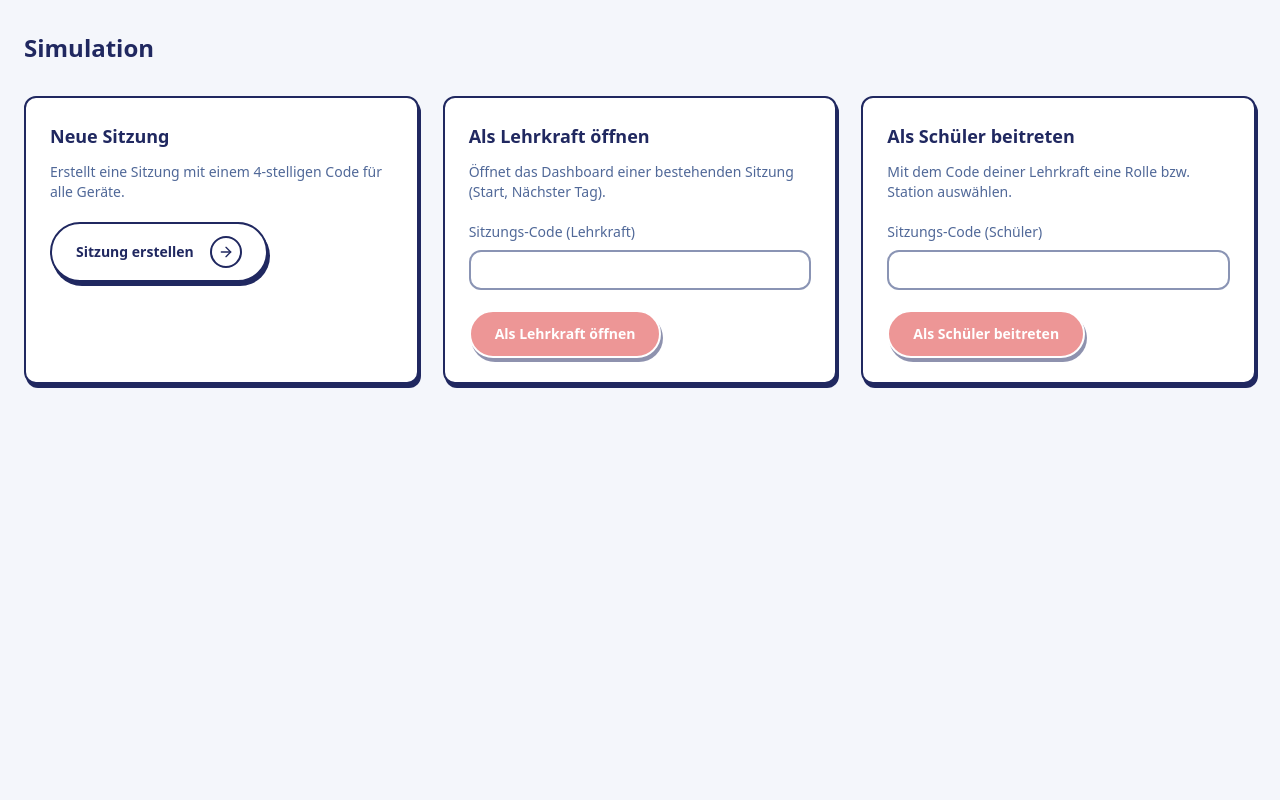
it: SimulationPage › opens the dashboard when a teacher enters a code
The image size is (1280, 800).
Type "4827" into the field labelled "Sitzungs-Code (Lehrkraft)".
click(640, 270); type("4827")  # box [469,250,811,290]
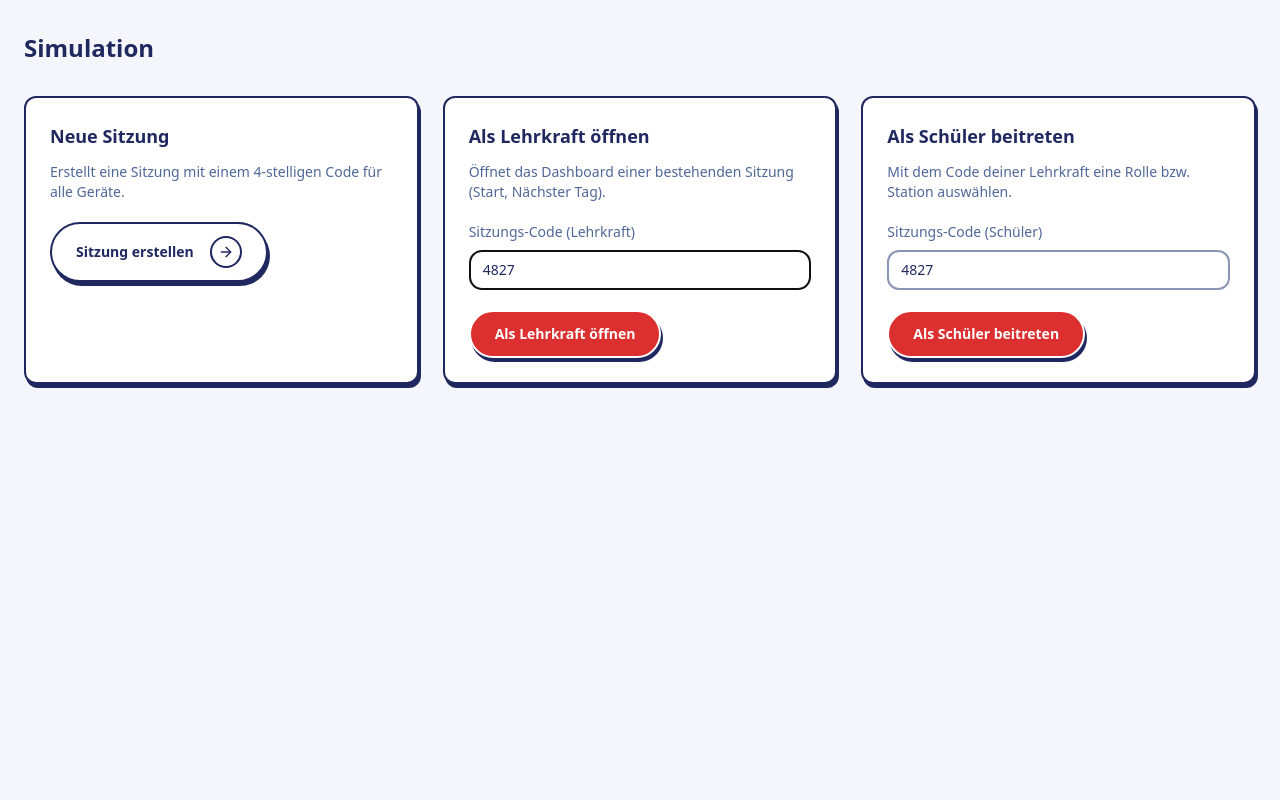
Click the button "Als Lehrkraft öffnen".
click(565, 334)  # box [469,310,662,358]
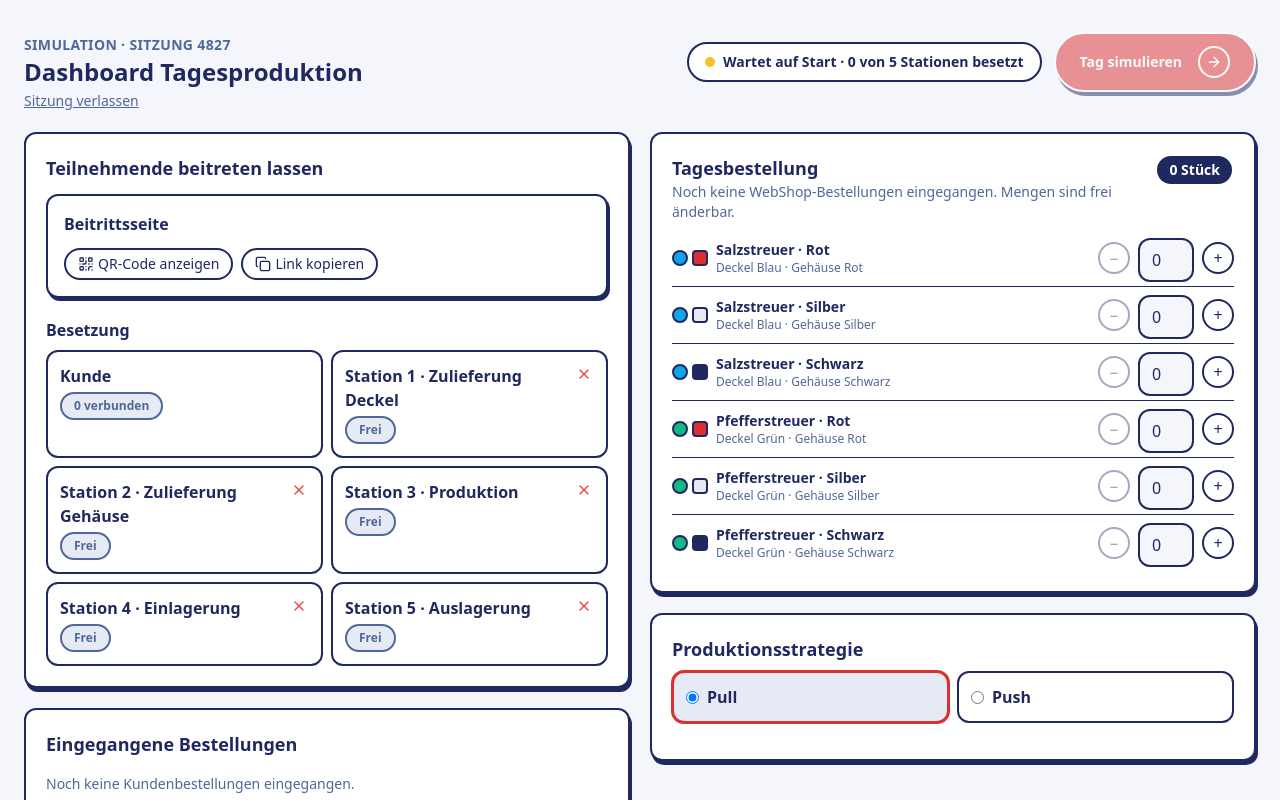
Result: the button "Sitzung verlassen" is shown at [24,91,139,111]
